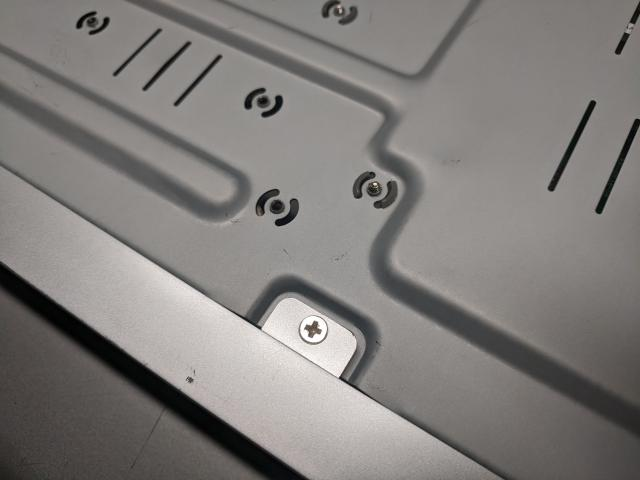CRS: (299, 313, 328, 345)
